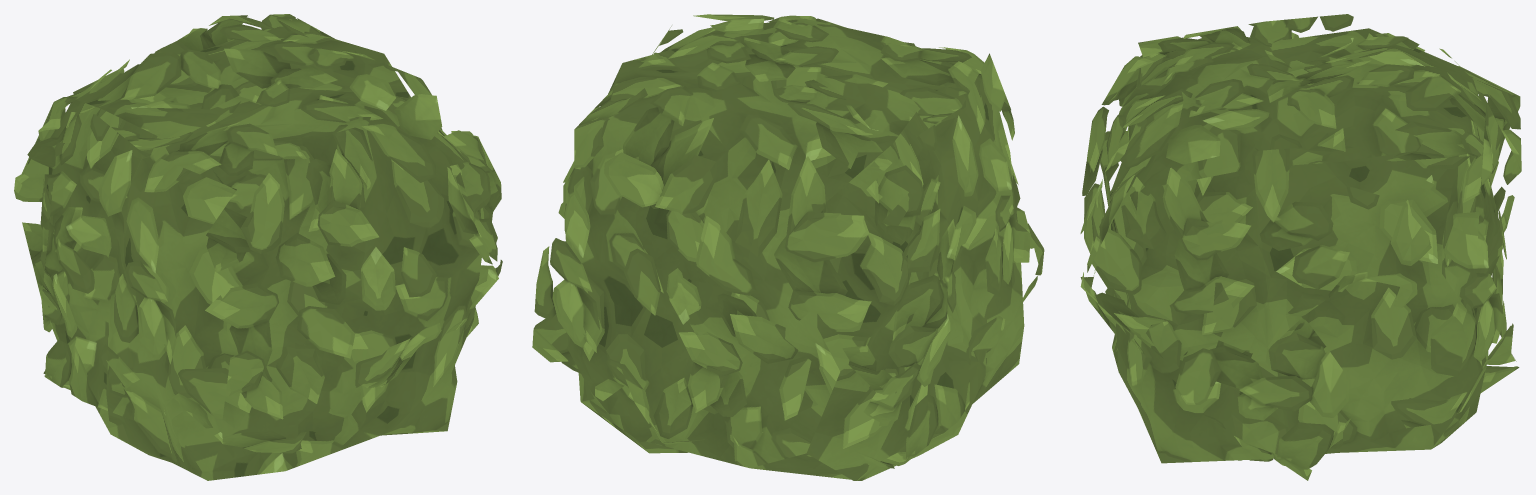
The model's file is SM_Env_Hedge_01.fbx.
The picture shows the model from 3 angles, left to right: view 1: azimuth 30°, elevation 25°; view 2: azimuth 150°, elevation 25°; view 3: azimuth 270°, elevation 25°; orthographic projection. The views are drawn at different scales.
Visible parts, largest first — view 1: SM_Env_Hedge_01_LOD0; view 2: SM_Env_Hedge_01_LOD0; view 3: SM_Env_Hedge_01_LOD0.
Boxes of the visible parts, left/top/right/bottom form: SM_Env_Hedge_01_LOD0: left=14, top=14, right=502, bottom=480; SM_Env_Hedge_01_LOD0: left=532, top=14, right=1044, bottom=480; SM_Env_Hedge_01_LOD0: left=1080, top=14, right=1521, bottom=480.
Size of what is drawn, in the model's own units: 77.98 by 72.42 by 81.43.
